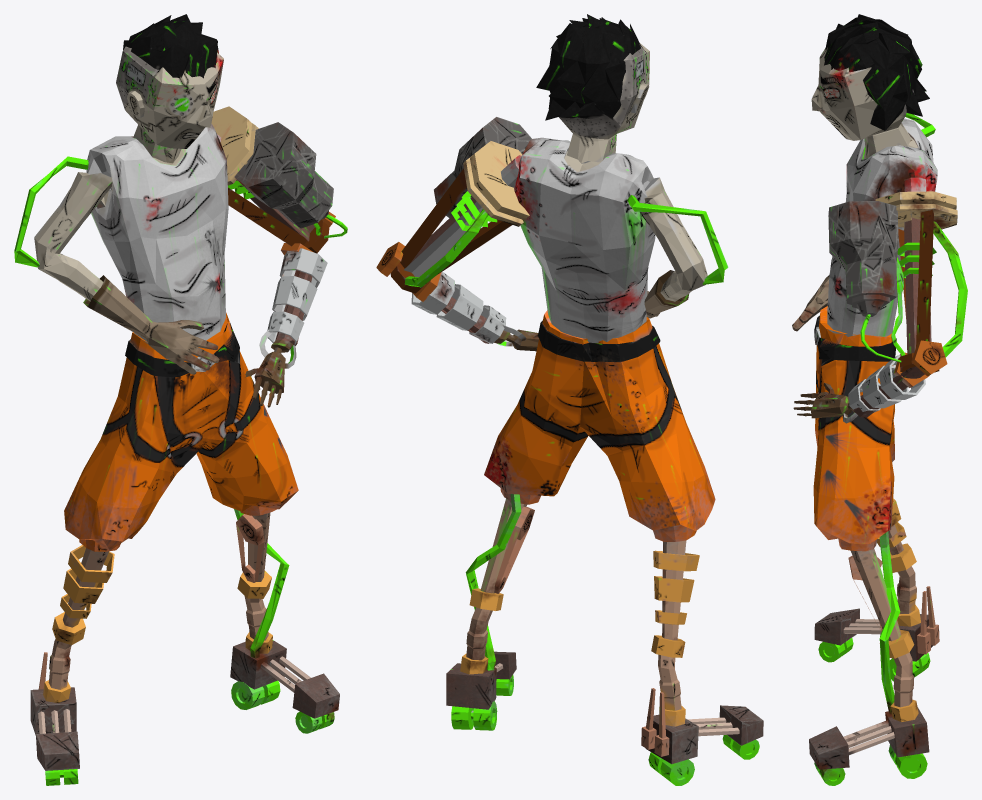
Rendered from CyborgFINALAnimation_000056.obj.
3 views of the same model, side by side, from view 1: azimuth 30°, elevation 25°; view 2: azimuth 150°, elevation 25°; view 3: azimuth 270°, elevation 25° (orthographic). The views are drawn at different scales.
Parts seen in each view (by area): view 1: CyborgMesh_Cube.002; view 2: CyborgMesh_Cube.002; view 3: CyborgMesh_Cube.002.
Part boxes in pixels (x1,y1,x2,y2): CyborgMesh_Cube.002: [14, 14, 347, 785]; CyborgMesh_Cube.002: [376, 14, 763, 785]; CyborgMesh_Cube.002: [792, 14, 967, 785].
Size of the model in its own units: 4.67 by 9.59 by 2.17.
